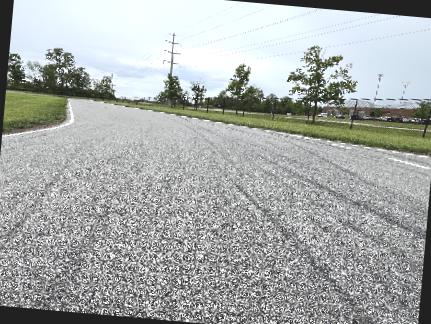Grass: (111, 102, 430, 155), (2, 93, 66, 131)
Lane: (0, 99, 430, 323)
